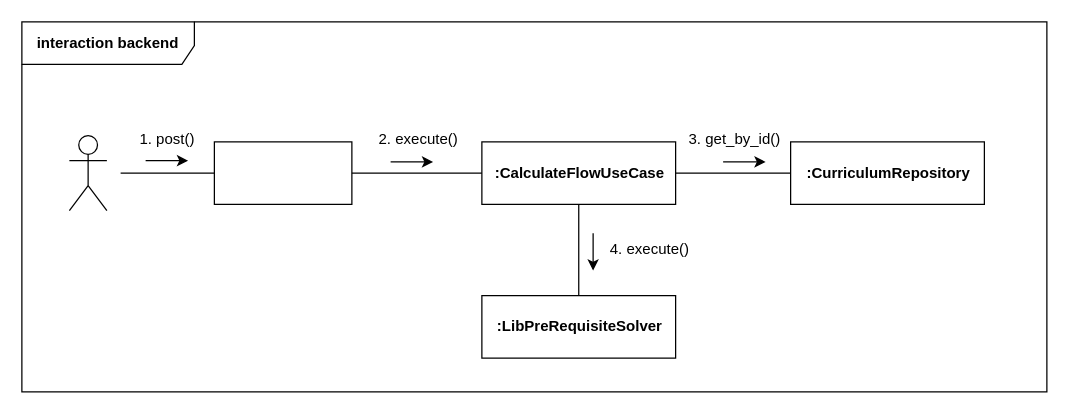
The diagram is 1069 pixels wide and 414 high, and some of its shapes have lost their labels. Each missing label, with the centre of its shape:
:FlowController: the point at 282,172
User: the point at 87,172
